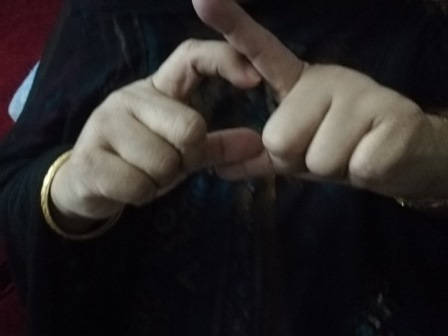kh: (121, 2, 402, 191)
